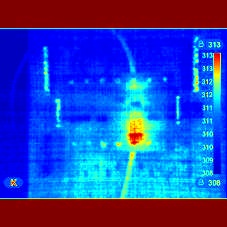High: (121, 107, 159, 158)
